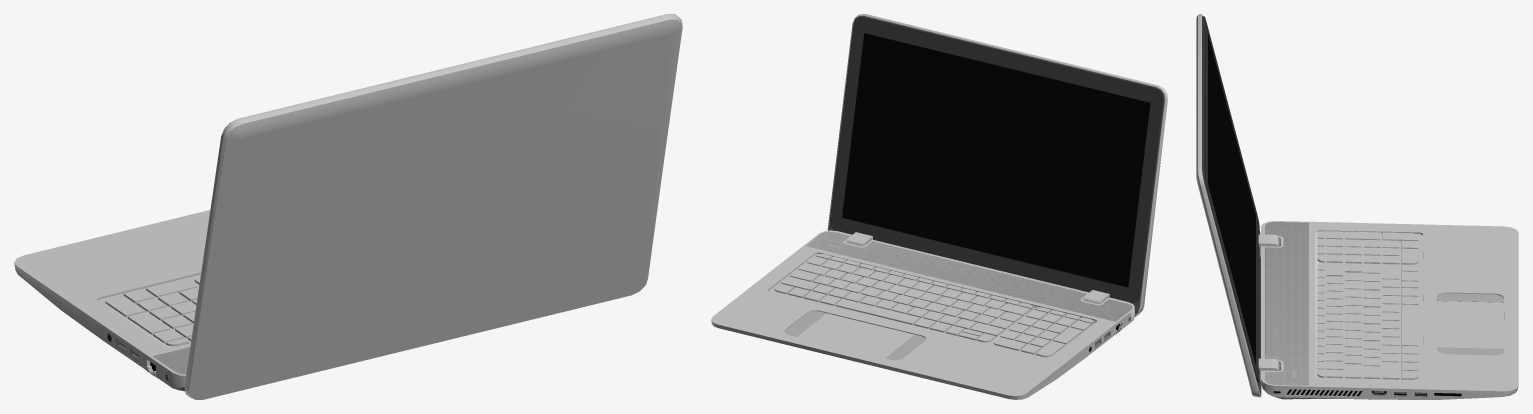
Rendered from laptop_1-transformed.glb.
The picture shows the model from 3 angles, left to right: view 1: azimuth 30°, elevation 25°; view 2: azimuth 150°, elevation 25°; view 3: azimuth 270°, elevation 25°; orthographic projection. The views are drawn at different scales.
Parts seen in each view (by area): view 1: Object_4, Object_10; view 2: Object_13, Object_4, Object_14, Object_10, Object_6, Object_5; view 3: Object_4, Object_13, Object_10, Object_14, Object_6, Object_5, Object_7.
Part boxes in pixels (<box>): Object_4: <box>14,14,682,399</box>; Object_10: <box>153,347,190,374</box>; Object_13: <box>842,33,1150,287</box>; Object_4: <box>711,14,1167,399</box>; Object_14: <box>830,17,1163,302</box>; Object_10: <box>806,232,1132,321</box>; Object_6: <box>785,311,925,360</box>; Object_5: <box>800,16,1164,333</box>; Object_4: <box>1196,14,1518,399</box>; Object_13: <box>1208,34,1255,364</box>; Object_10: <box>1265,222,1308,385</box>; Object_14: <box>1202,16,1259,382</box>; Object_6: <box>1437,293,1504,355</box>; Object_5: <box>1202,16,1503,399</box>; Object_7: <box>1273,389,1461,396</box>.
Size of the model in its own units: 0.84 by 0.5446 by 0.6937.
Materials: 9 (1 with a texture image).
